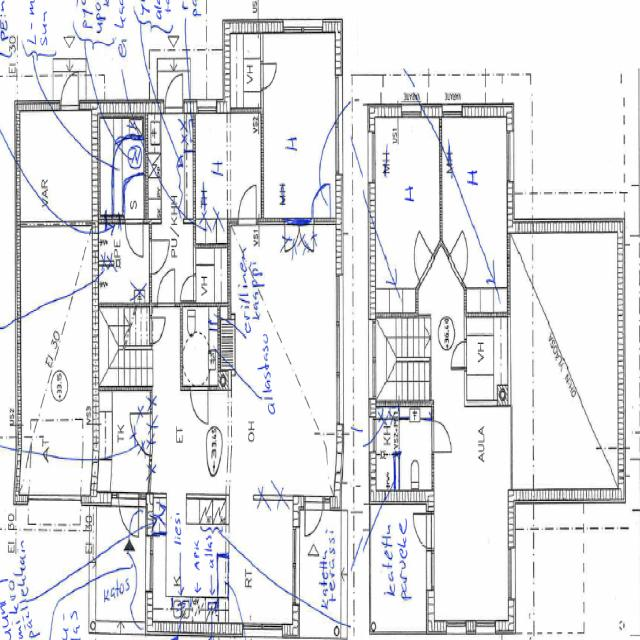door: (448, 230, 476, 283), (406, 231, 434, 283), (118, 496, 138, 546), (408, 514, 434, 548), (305, 497, 323, 543), (165, 67, 183, 111), (61, 67, 78, 111), (149, 239, 170, 274), (238, 184, 256, 224), (157, 269, 175, 307), (313, 186, 330, 224), (190, 387, 208, 422), (126, 218, 142, 254), (432, 422, 451, 452), (150, 316, 167, 343), (449, 342, 466, 369), (261, 63, 277, 89), (180, 275, 195, 300)
